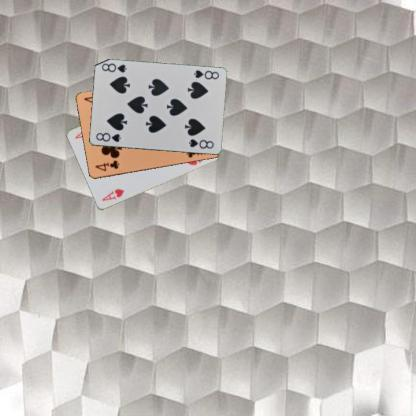4c: (93, 158, 120, 172)
8s: (191, 67, 220, 81), (93, 130, 122, 143)
Ah: (100, 185, 126, 202)
